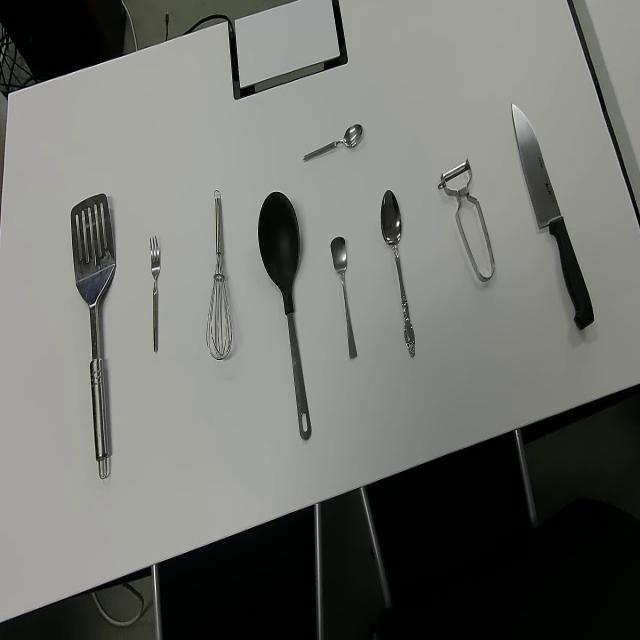Desert-Spoon: (380, 188, 416, 358)
Dinner-Fork: (149, 233, 160, 354)
Kitchen-Knife: (510, 100, 596, 331)
Peeler: (438, 159, 496, 283)
Serving-Spoon: (257, 190, 312, 442), (70, 190, 117, 481)
Tea-Spoon: (330, 235, 358, 361), (302, 121, 364, 165)
Whisk: (206, 188, 233, 360)
